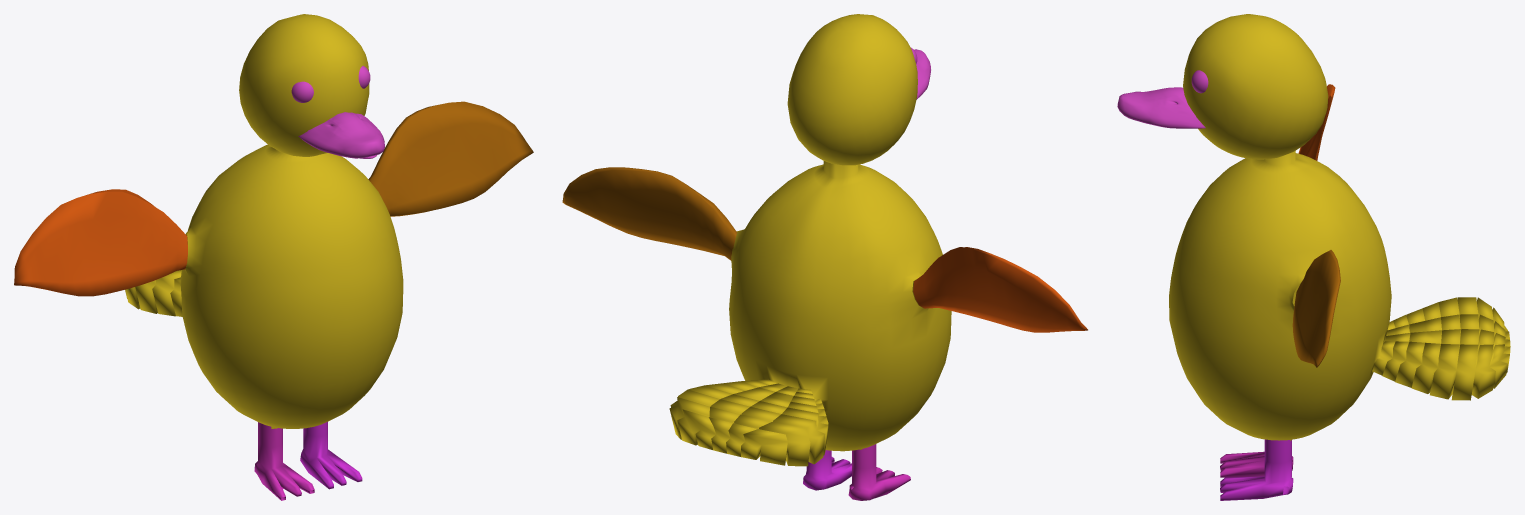
Rendered from Duck.obj.
3 views of the same model, side by side, from view 1: azimuth 30°, elevation 25°; view 2: azimuth 150°, elevation 25°; view 3: azimuth 270°, elevation 25° (orthographic).
Visible parts, largest first — view 1: Body, Body.002, Body.001, Beak.Top_Cube.001, Body.004, Body.005; view 2: Body, Body.001, Body.002, Body.004, Body.005; view 3: Body, Body.001, Body.005, Beak.Top_Cube.001, Body.004, Body.002.
Boxes of the visible parts, bbox=[...] form: Body: bbox=[125, 14, 403, 428]; Body.002: bbox=[14, 189, 187, 296]; Body.001: bbox=[368, 101, 533, 216]; Beak.Top_Cube.001: bbox=[298, 112, 384, 158]; Body.004: bbox=[254, 422, 314, 500]; Body.005: bbox=[300, 421, 362, 489]; Body: bbox=[669, 14, 951, 466]; Body.001: bbox=[562, 167, 736, 260]; Body.002: bbox=[913, 247, 1087, 332]; Body.004: bbox=[848, 444, 910, 500]; Body.005: bbox=[803, 450, 851, 490]; Body: bbox=[1169, 14, 1510, 440]; Body.001: bbox=[1292, 250, 1340, 367]; Body.005: bbox=[1220, 439, 1293, 500]; Beak.Top_Cube.001: bbox=[1117, 87, 1205, 128]; Body.004: bbox=[1220, 451, 1293, 477]; Body.002: bbox=[1298, 84, 1335, 160].
Size of the model in its own units: 0.8093 by 0.6805 by 0.5252.
